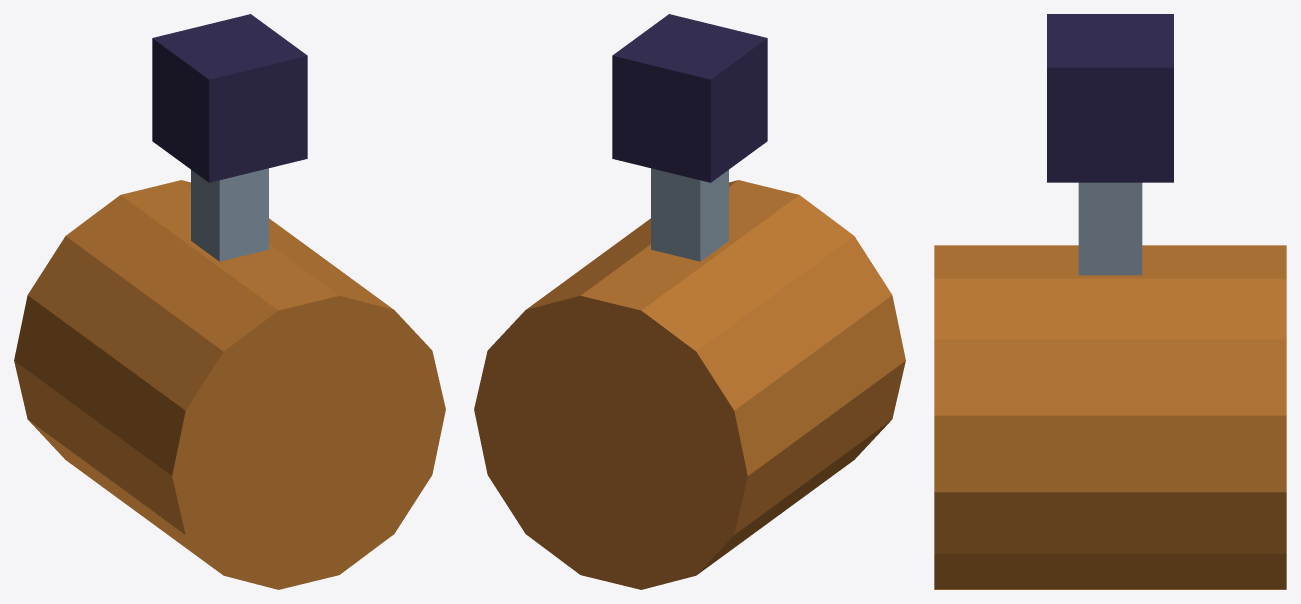
The model's file is hammer.glb.
3 views of the same model, side by side, from view 1: azimuth 30°, elevation 25°; view 2: azimuth 150°, elevation 25°; view 3: azimuth 270°, elevation 25° (orthographic). The views are drawn at different scales.
Parts seen in each view (by area): view 1: Head, Mount, Arm; view 2: Head, Mount, Arm; view 3: Head, Mount, Arm.
Boxes of the visible parts, <box> form: Head: <box>14,180,445,589</box>; Mount: <box>152,14,307,182</box>; Arm: <box>191,168,268,261</box>; Head: <box>474,180,905,589</box>; Mount: <box>612,14,767,182</box>; Arm: <box>651,168,728,261</box>; Head: <box>934,245,1286,589</box>; Mount: <box>1047,14,1173,182</box>; Arm: <box>1078,182,1142,275</box>.
Bounding box in the file's own units: 1 × 1.67 × 1.
